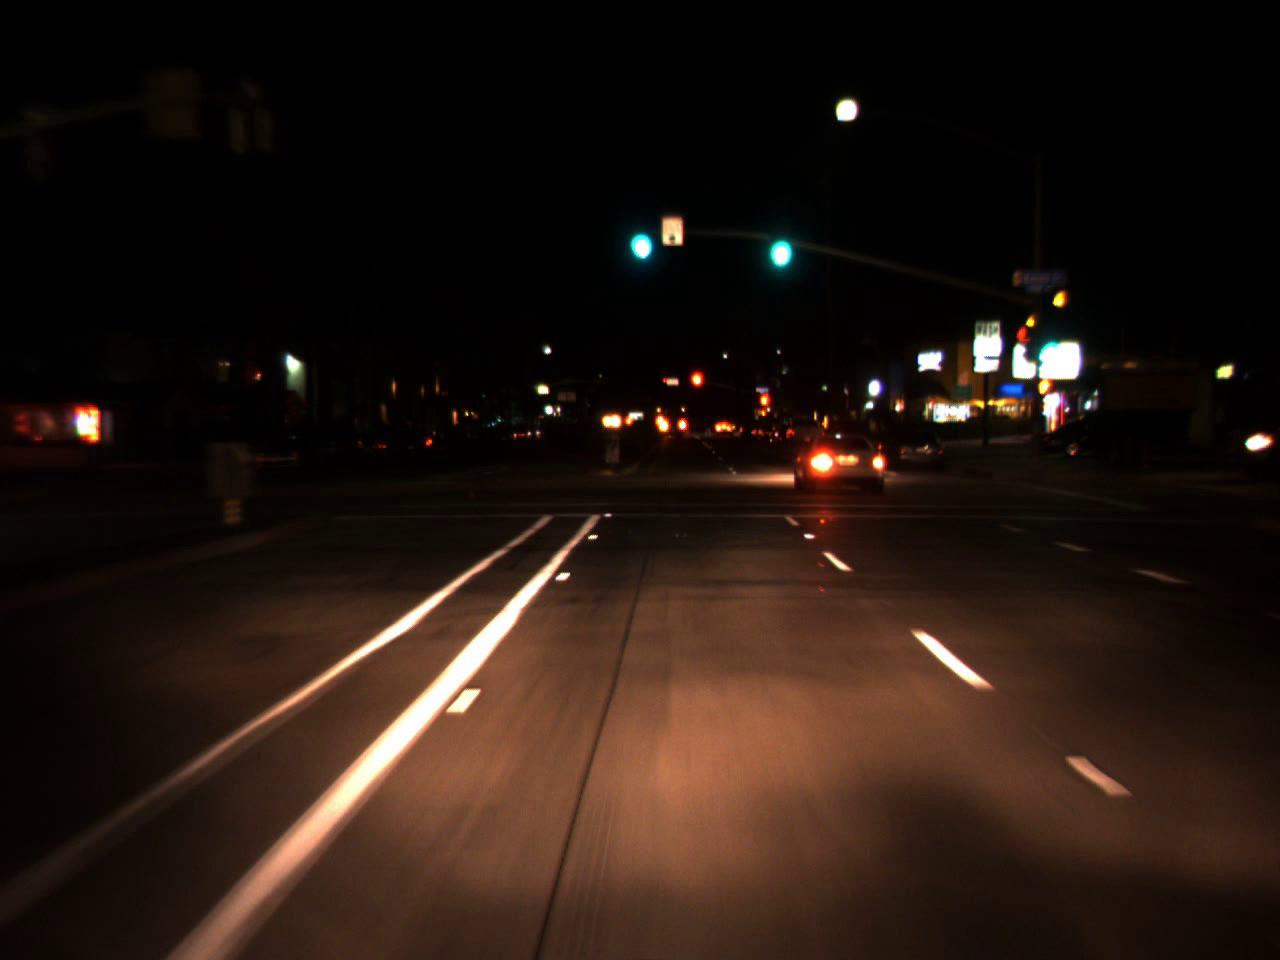go: (761, 206, 797, 278), (622, 200, 656, 269), (1032, 320, 1064, 371)
stop: (688, 368, 706, 405), (757, 391, 770, 423)
